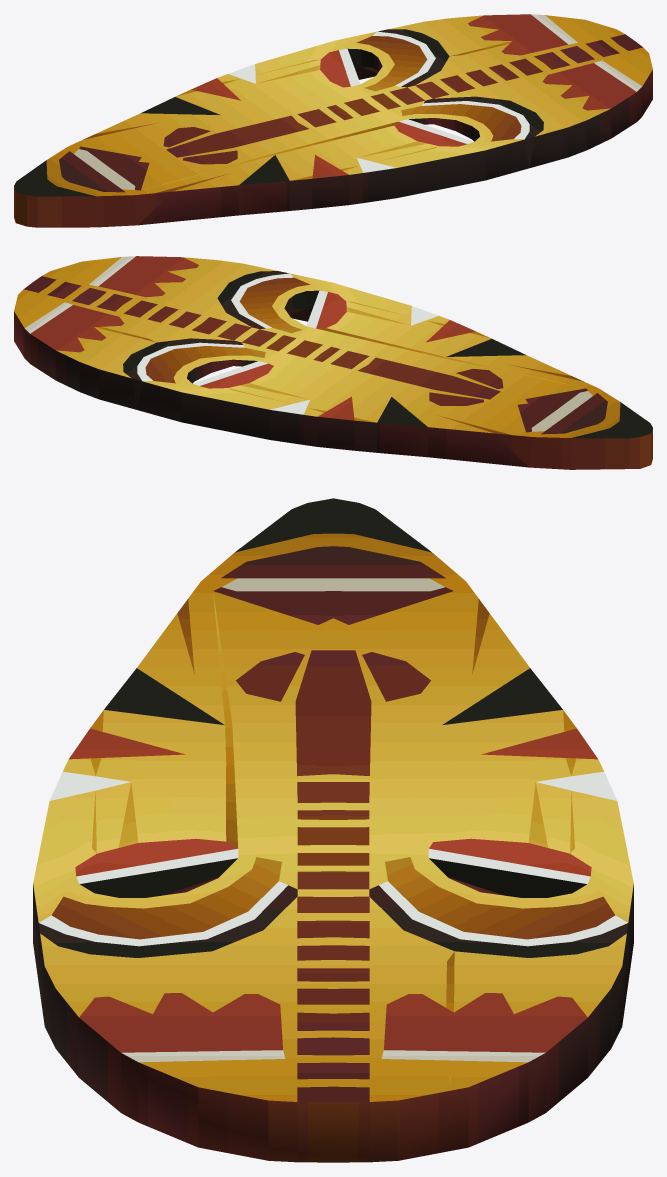
Rendered from kenyaBoard.glb.
3 views of the same model, one above another, from view 1: azimuth 30°, elevation 25°; view 2: azimuth 150°, elevation 25°; view 3: azimuth 270°, elevation 25° (orthographic). The views are drawn at different scales.
Parts seen in each view (by area): view 1: kenyaBoard; view 2: kenyaBoard; view 3: kenyaBoard.
Boxes of the visible parts, bbox=[...] form: kenyaBoard: bbox=[14, 14, 652, 227]; kenyaBoard: bbox=[14, 256, 652, 469]; kenyaBoard: bbox=[33, 498, 633, 1162].
Size of the model in its own units: 9.11 by 0.5078 by 3.83.
1 material, 1 textured.
